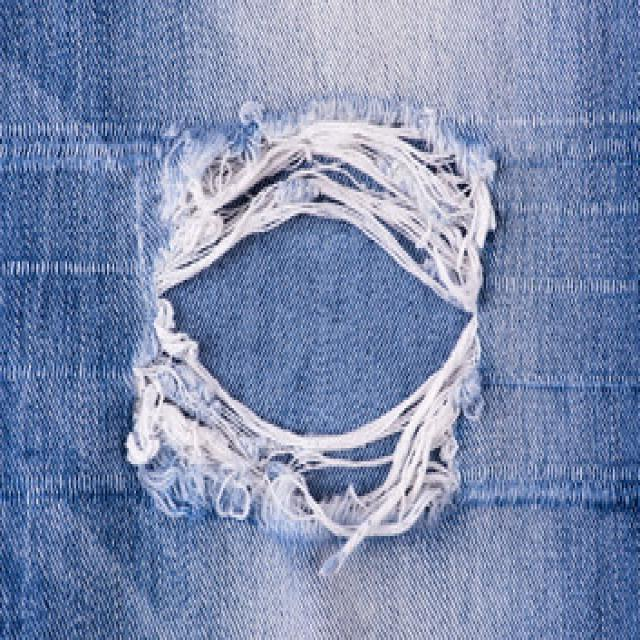Hole: (127, 100, 496, 572)
Line: (459, 466, 640, 512), (0, 121, 161, 172), (489, 128, 640, 166), (0, 472, 141, 506), (458, 108, 640, 128), (487, 277, 640, 294), (498, 199, 640, 216), (0, 365, 131, 383), (0, 260, 137, 276)
